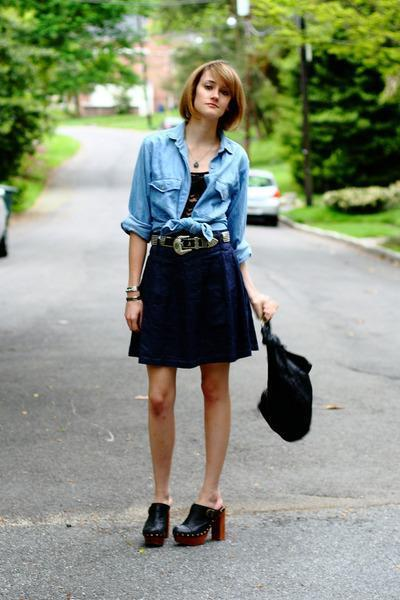bag: (258, 337, 312, 441)
shirt: (121, 116, 251, 241)
shoe: (141, 503, 228, 547)
skirt: (127, 254, 258, 368)
